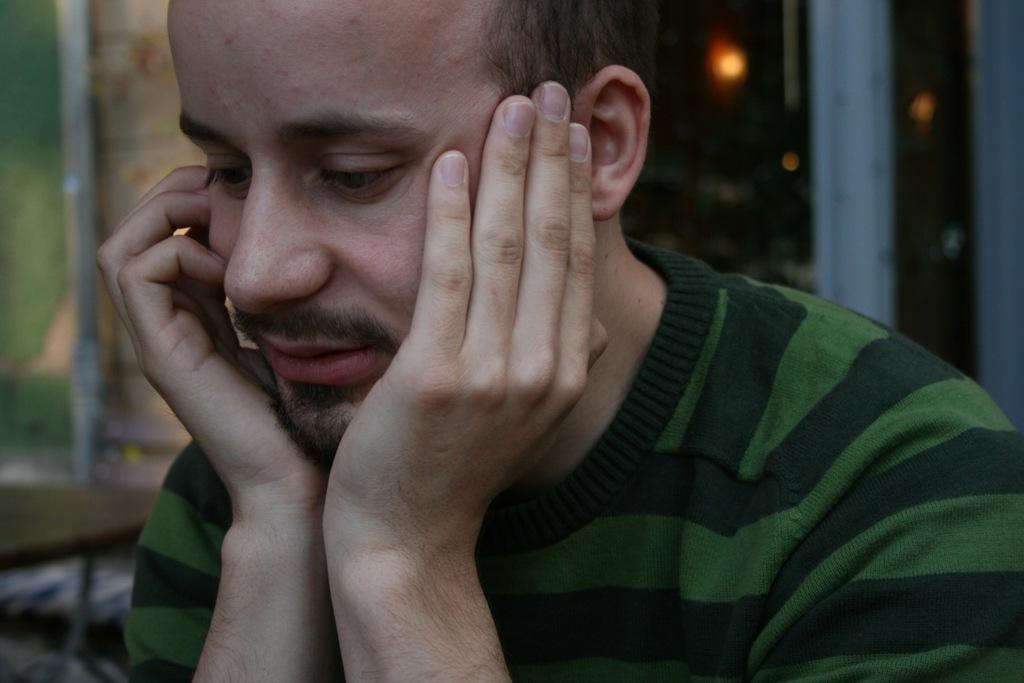Sem Máscara: (186, 21, 527, 445)
